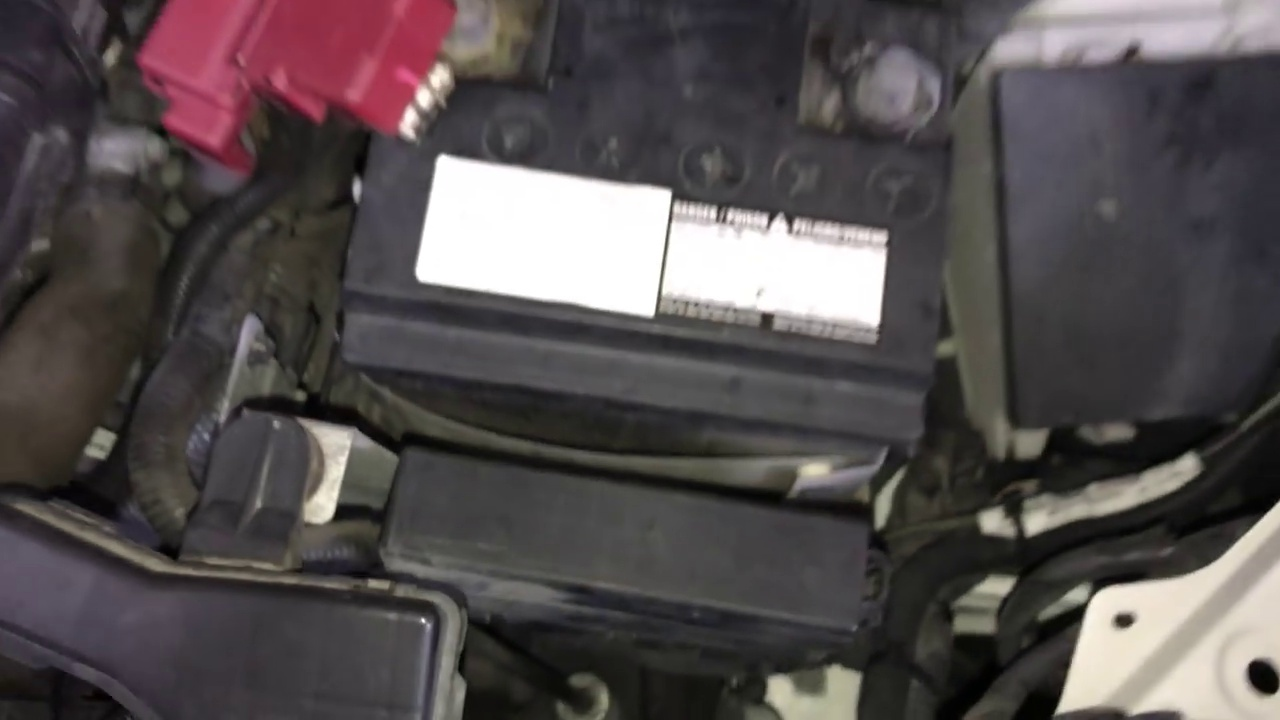battery: (359, 57, 961, 453)
